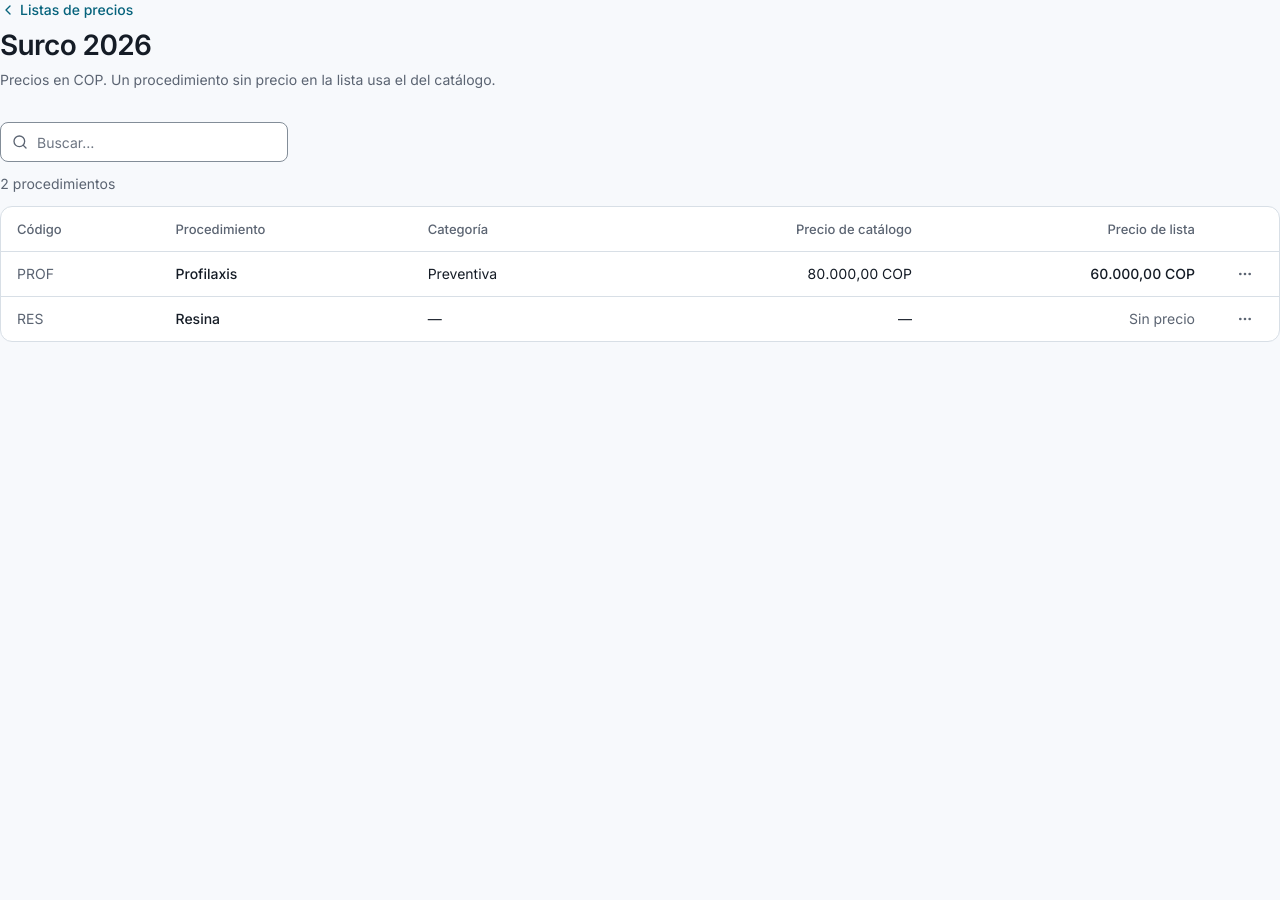
PriceListItemsView (DX-105) › el modal se rellena con el precio actual
This screenshot has width=1280, height=900.
Step 1. Click the button "Profilaxis" → (206, 274), box [176, 264, 237, 284]
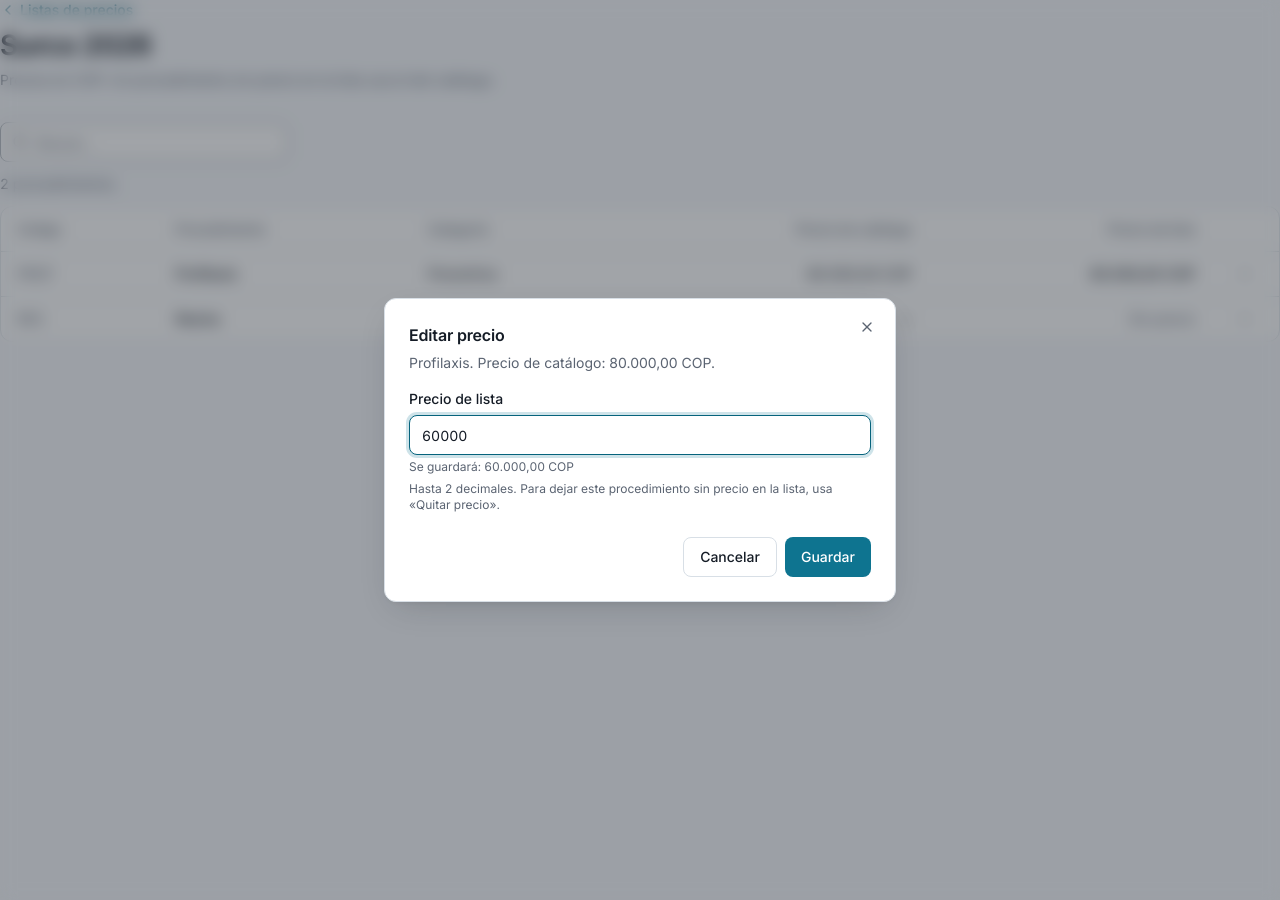
expect the field labelled "Precio de lista" holds "60000": met, box [409, 415, 871, 455]
